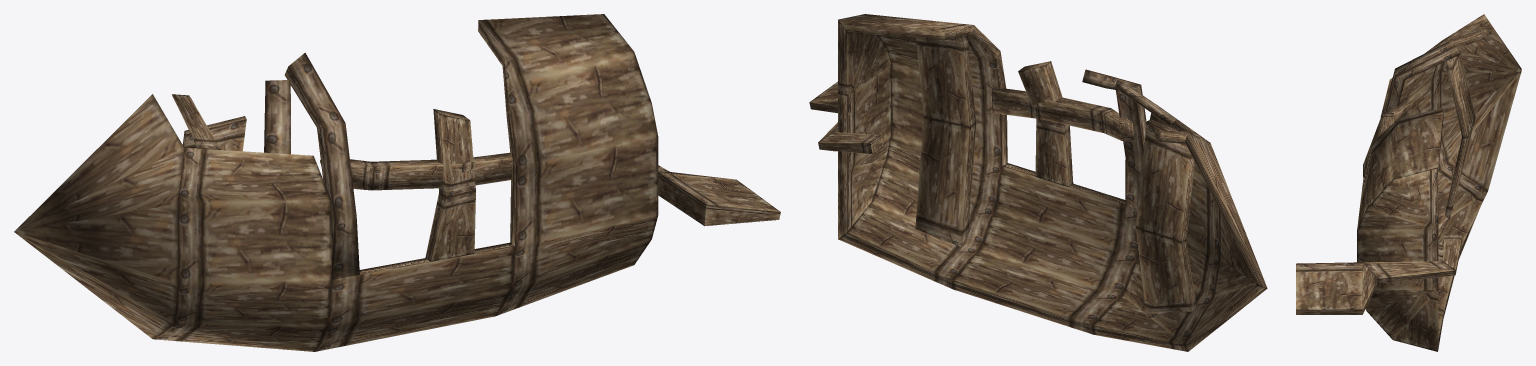
File: wreckedrowboat.obj
3 views of the same model, side by side, from view 1: azimuth 30°, elevation 25°; view 2: azimuth 150°, elevation 25°; view 3: azimuth 270°, elevation 25° (orthographic). The views are drawn at different scales.
Size of the model in its own units: 9.49 by 4.28 by 4.01.
1 material, 1 textured.
